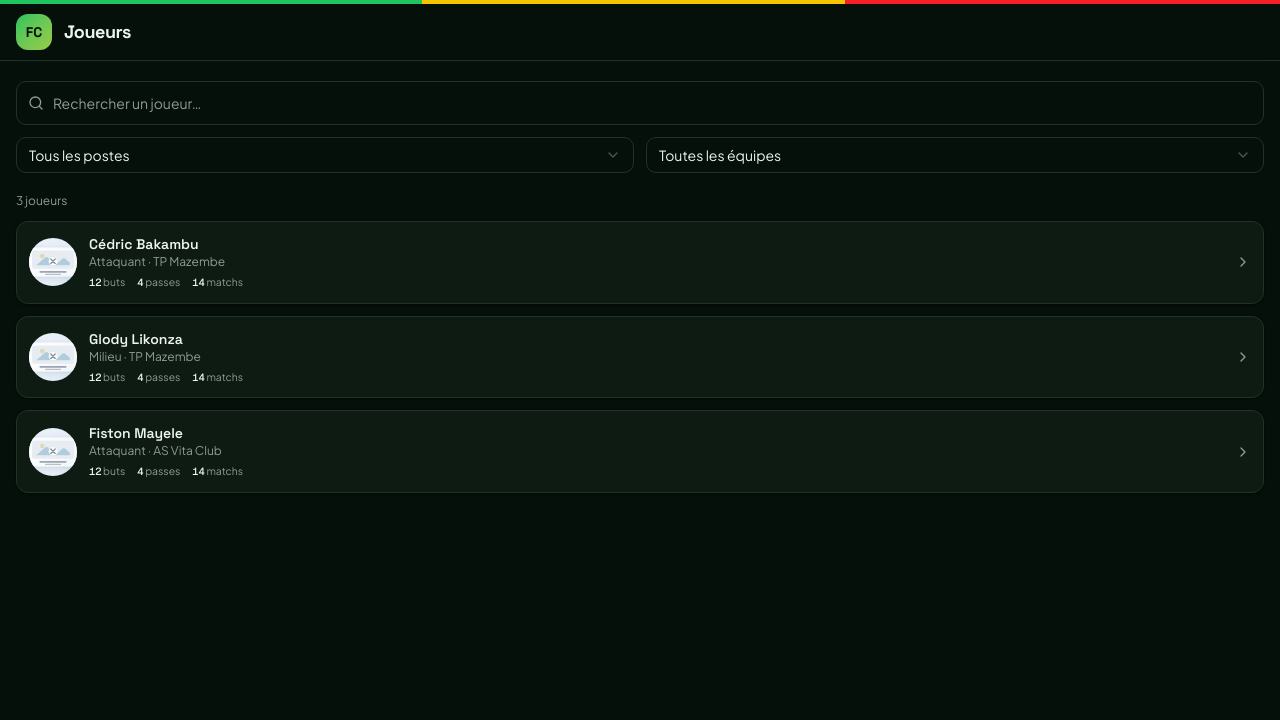
Players page › filters players by name
Expected: the text "Cédric Bakambu" is shown, [89, 235, 199, 253]
In the search field with test id "players.search_input": (640, 103) [16, 81, 1264, 125], type "mayele"
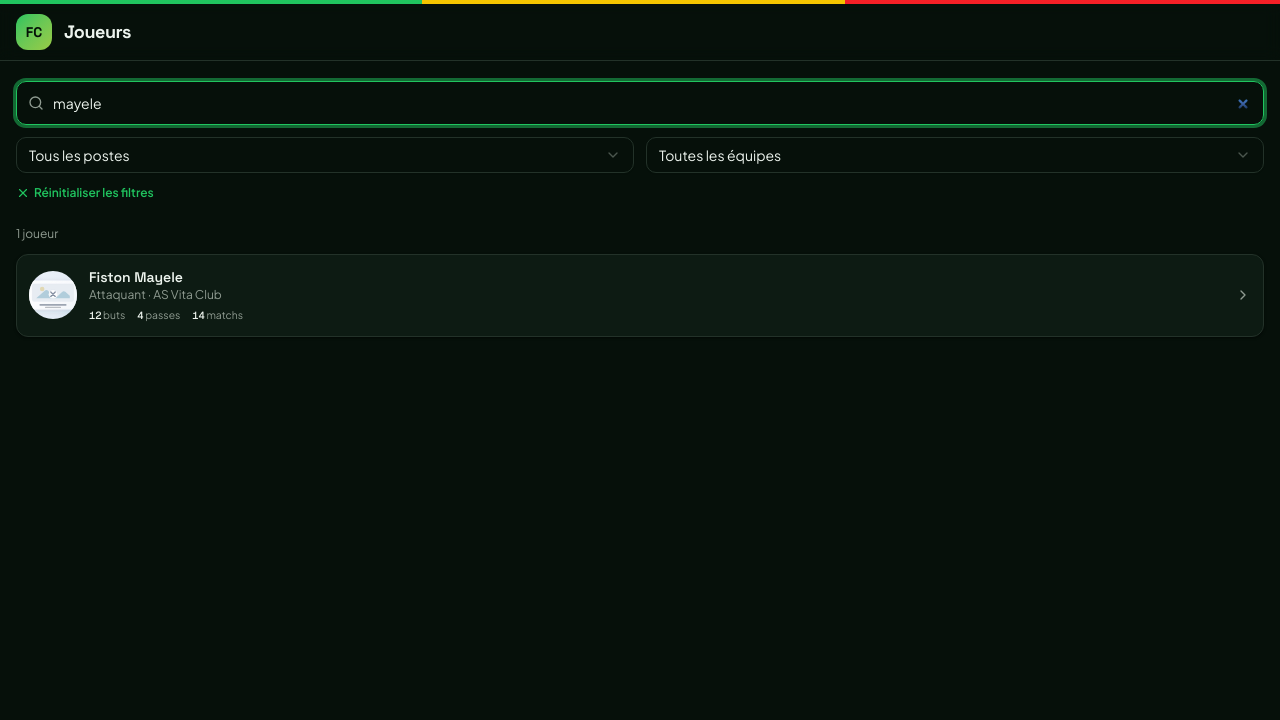
Expected: the text "Fiston Mayele" is shown, [89, 268, 183, 286]
Result: the link "Cédric Bakambu" is gone
